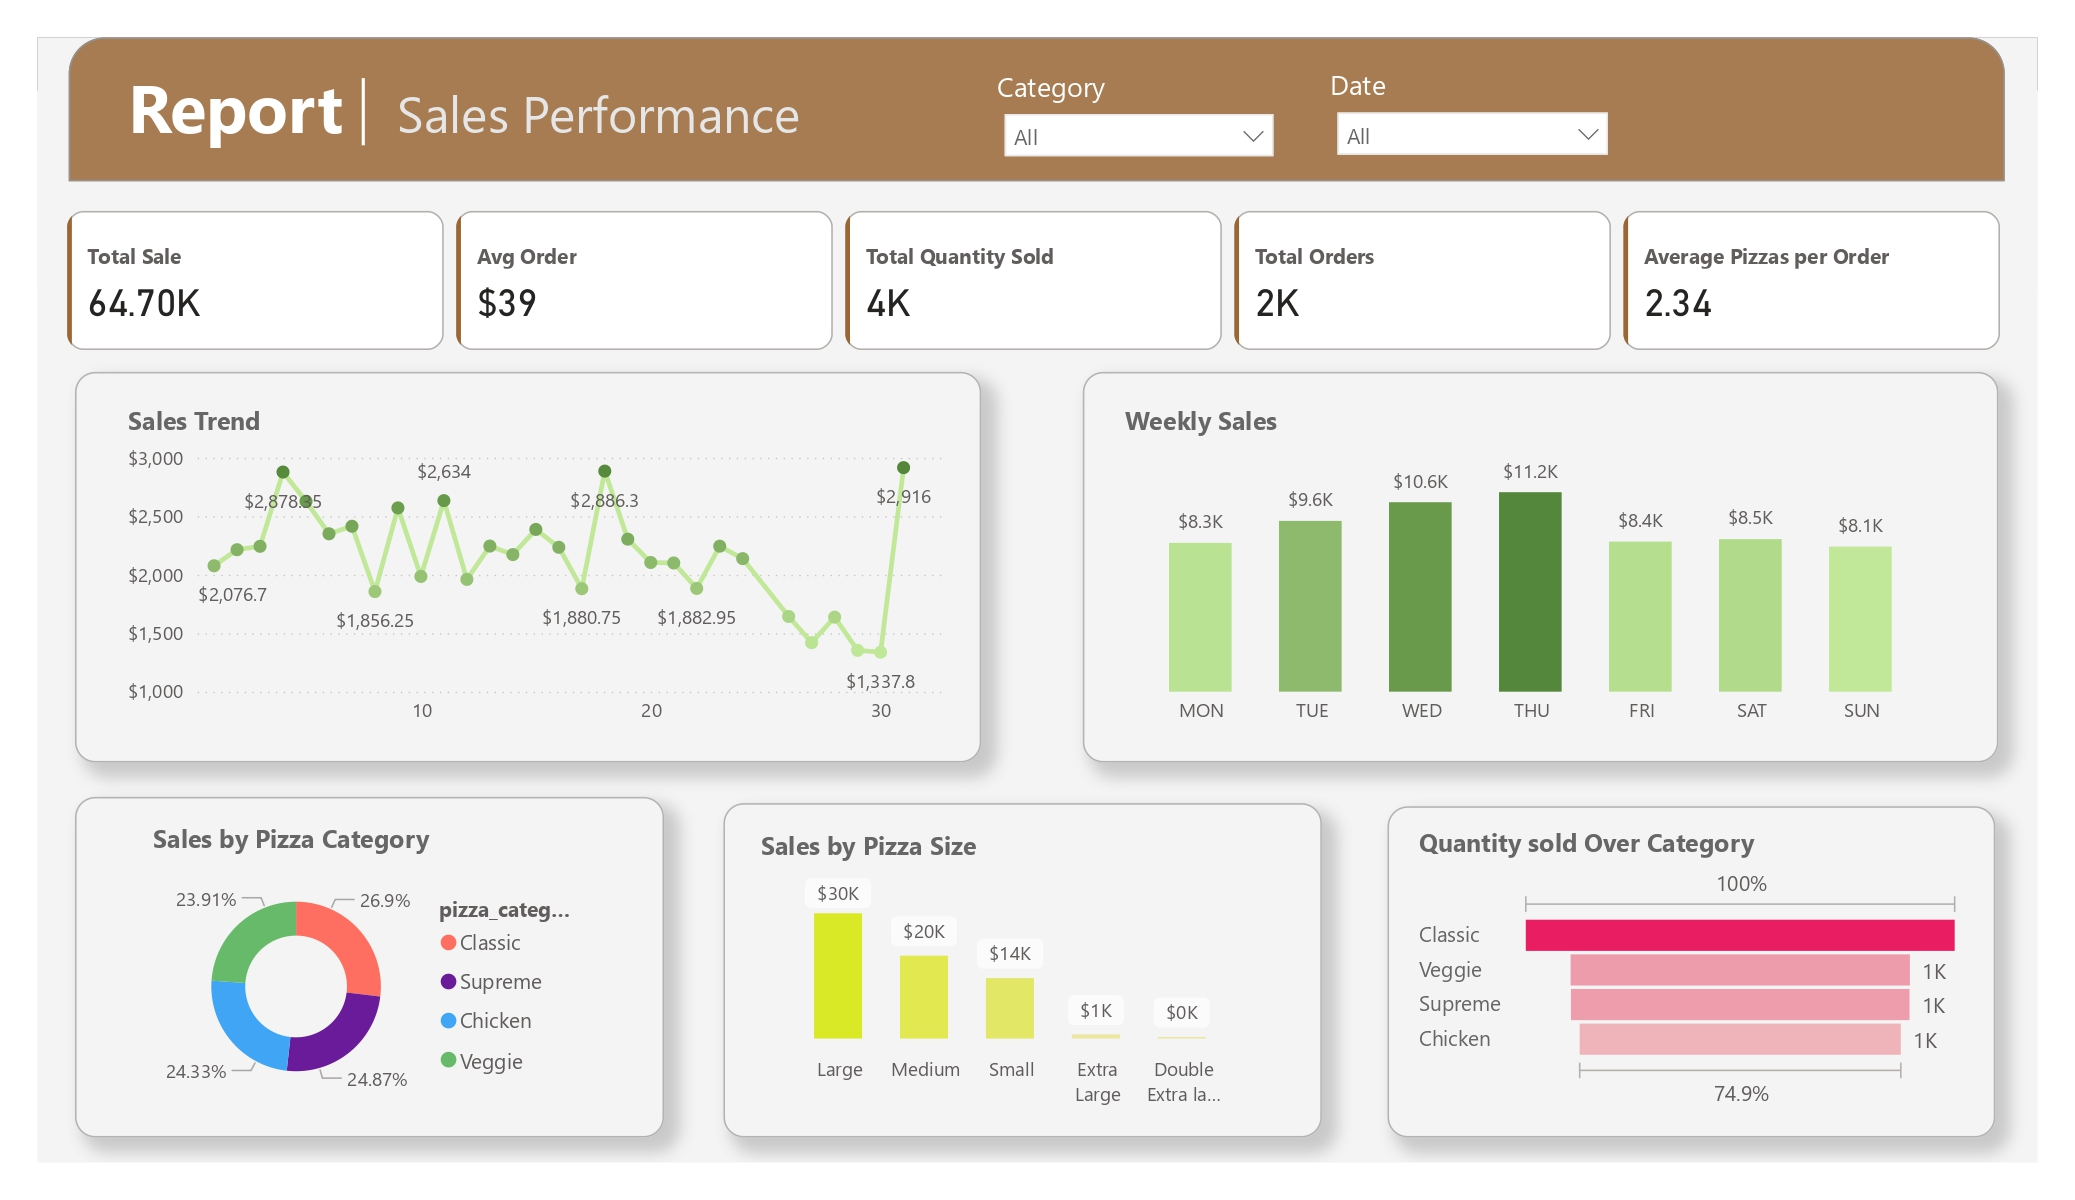

What the dashboard file says about the page in this screenshot:
{"tool":"powerbi","page":{"name":"Home","canvas":[1280,720],"ordinal":0},"visuals":[{"type":"shape","box":[19.7,0,1239.4,92.5],"z":0},{"type":"cardVisual","fields":{"Data":["Sum(pizza.quantity)"]},"box":[863.6,491.8,389.5,212.5],"z":1000},{"type":"funnel","title":" Quantity sold Over Category","fields":{"Category":["pizza.pizza_category"],"Y":["Sum(pizza.quantity)"]},"box":[879.4,503.6,358,186.9],"z":2000},{"type":"cardVisual","fields":{"Data":["Sum(pizza.quantity)"]},"box":[23.6,214.4,580,250],"z":3000},{"type":"cardVisual","fields":{"Data":["Sum(pizza.quantity)"]},"box":[668.9,214.4,586.2,249.8],"z":4000},{"type":"cardVisual","fields":{"Data":["pizza.Total_Sale","pizza.Average_Order_Value","pizza.Total_Pizza_Sold","pizza.Total_Orders","pizza.Average_Pizza_per_Order"]},"box":[13.8,106.2,1247,98.4],"z":5000},{"type":"textbox","box":[53.1,9.8,517.4,74.8],"z":6000},{"type":"shape","box":[170,26.1,76.6,43],"z":7000},{"type":"slicer","title":"Category","fields":{"Values":["pizza.pizza_category"]},"box":[608.9,18.7,192.4,61.6],"z":8000},{"type":"lineChart","title":"Sales Trend","fields":{"Y":["pizza.Total_Sale"],"Category":["pizza.order_date.Variation.Date Hierarchy.Year","pizza.order_date.Variation.Date Hierarchy.Quarter","pizza.order_date.Variation.Date Hierarchy.Month","pizza.order_date.Variation.Date Hierarchy.Day"]},"box":[53.1,234.1,531.2,214.4],"z":9000},{"type":"cardVisual","fields":{"Data":["Sum(pizza.quantity)"]},"box":[438.7,489.8,383.6,214.4],"z":10000},{"type":"cardVisual","fields":{"Data":["Sum(pizza.quantity)"]},"box":[23.6,485.9,377.7,218.4],"z":11000},{"type":"donutChart","title":" Sales by Pizza Category","fields":{"Category":["pizza.pizza_category"],"Y":["pizza.Total_Sale"]},"box":[68.9,501.6,285.3,190.8],"z":12000},{"type":"slicer","title":"Date","fields":{"Values":["pizza.Month_name"]},"box":[822.3,17.7,192.8,63],"z":13000},{"type":"columnChart","title":"Weekly Sales","fields":{"Y":["pizza.Total_Sale"],"Category":["pizza.weekday_name"]},"box":[690.5,234.1,531.2,214.4],"z":14000},{"type":"lineStackedColumnComboChart","title":"Sales by Pizza Size","fields":{"Category":["pizza.pizza_size"],"Y":["pizza.Total_Sale"]},"box":[458.4,505.6,318.7,186.9],"z":15000}]}

Visuals, with their boxes in screenshot pixels (x1, y1, x2, y2):
shape: x1=68, y1=38, x2=2005, y2=182
cardVisual - Sum(pizza.quantity): x1=1387, y1=806, x2=1995, y2=1138
" Quantity sold Over Category" funnel: x1=1412, y1=824, x2=1971, y2=1116
cardVisual - Sum(pizza.quantity): x1=74, y1=372, x2=981, y2=763
cardVisual - Sum(pizza.quantity): x1=1083, y1=372, x2=1999, y2=763
cardVisual - pizza.Total_Sale x pizza.Average_Order_Value: x1=59, y1=203, x2=2008, y2=357
textbox: x1=120, y1=53, x2=929, y2=170
shape: x1=303, y1=78, x2=423, y2=145
"Category" slicer: x1=989, y1=67, x2=1290, y2=163
"Sales Trend" lineChart: x1=120, y1=403, x2=950, y2=738
cardVisual - Sum(pizza.quantity): x1=723, y1=803, x2=1322, y2=1138
cardVisual - Sum(pizza.quantity): x1=74, y1=797, x2=665, y2=1138
" Sales by Pizza Category" donutChart: x1=145, y1=821, x2=591, y2=1119
"Date" slicer: x1=1322, y1=65, x2=1624, y2=164
"Weekly Sales" columnChart: x1=1116, y1=403, x2=1946, y2=738
"Sales by Pizza Size" lineStackedColumnComboChart: x1=754, y1=828, x2=1252, y2=1120
